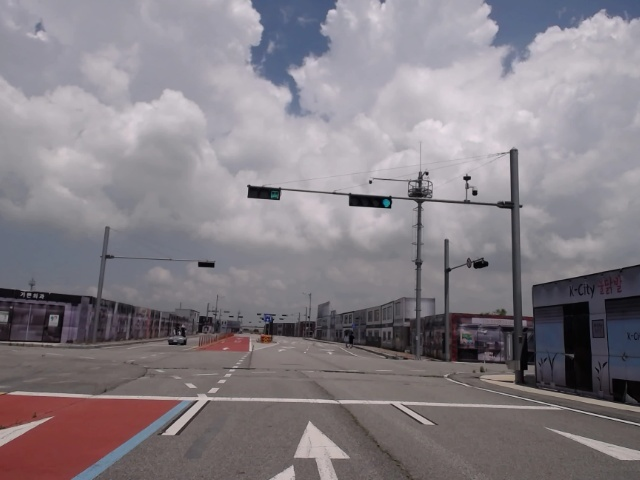straight_green_4: (351, 197, 392, 208)
